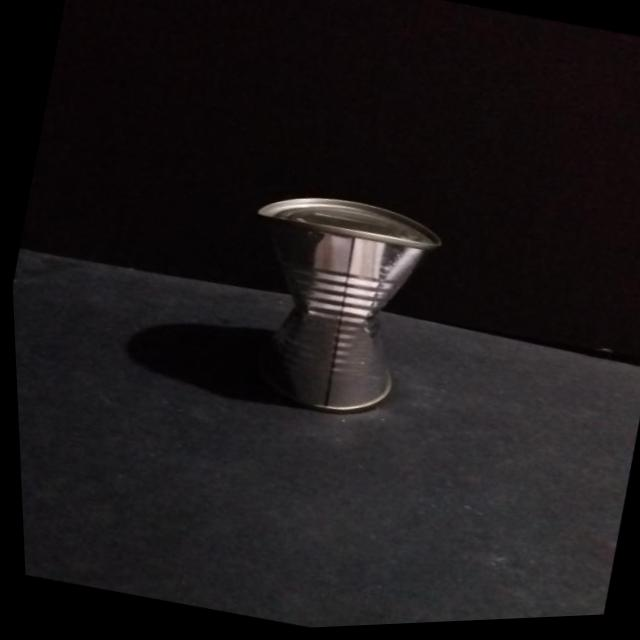metal: (258, 198, 439, 412)
